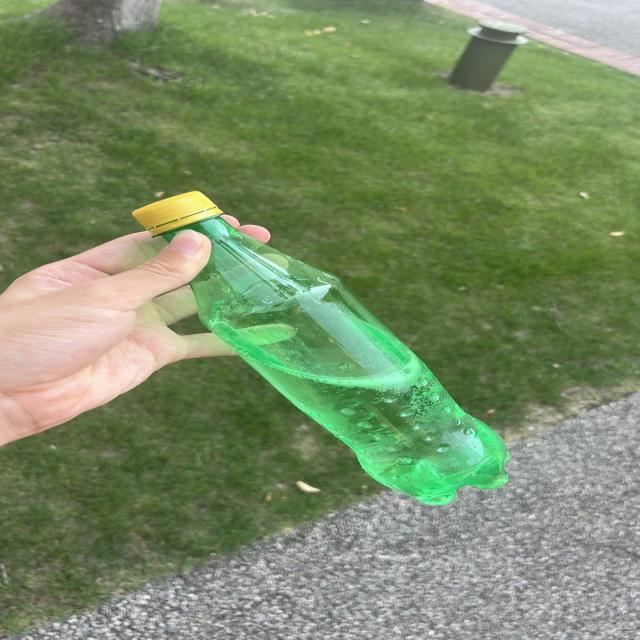medium: (132, 191, 508, 504)
